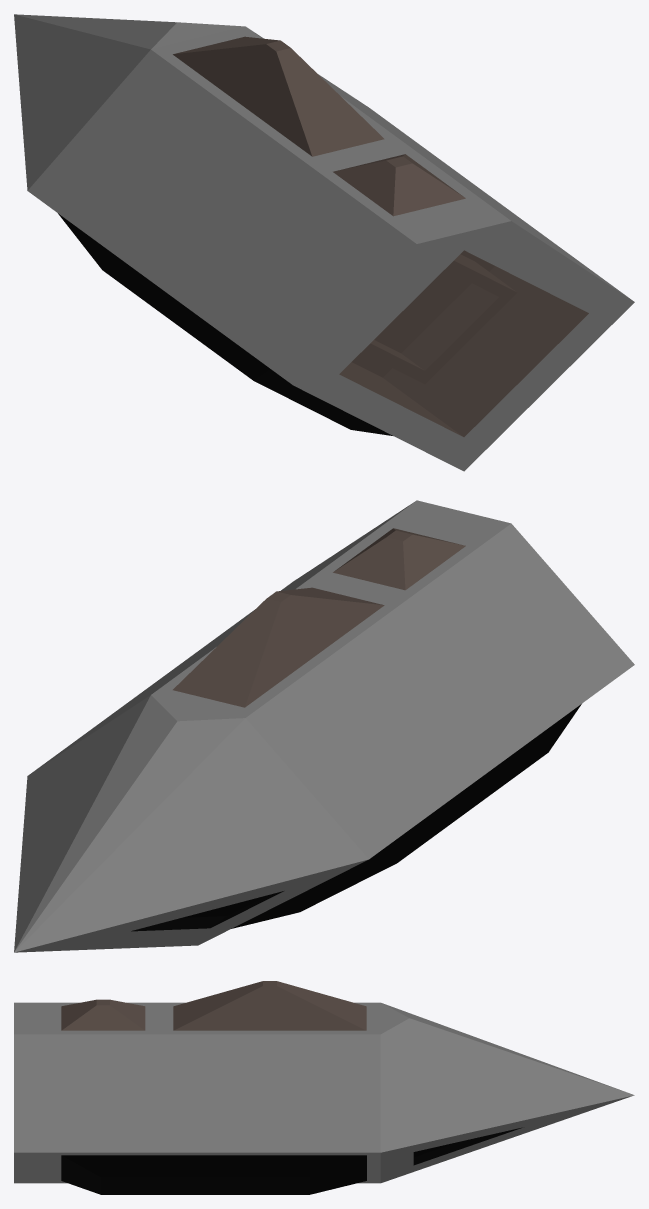
File: stealth.fbx
3 renders of one model, top to bottom at view 1: azimuth 30°, elevation 25°; view 2: azimuth 150°, elevation 25°; view 3: azimuth 270°, elevation 25°, orthographic. The views are drawn at different scales.
Visible parts, largest first — view 1: Cube.050; view 2: Cube.050; view 3: Cube.050.
Boxes of the visible parts, x1,y1,x2,y2 form: Cube.050: (14, 14, 634, 471); Cube.050: (14, 500, 634, 952); Cube.050: (14, 981, 634, 1194).
Size of the model in its own units: 465 by 377 by 1061.
